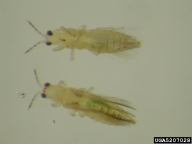Thrips: (20, 74, 142, 133), (19, 16, 147, 65)
